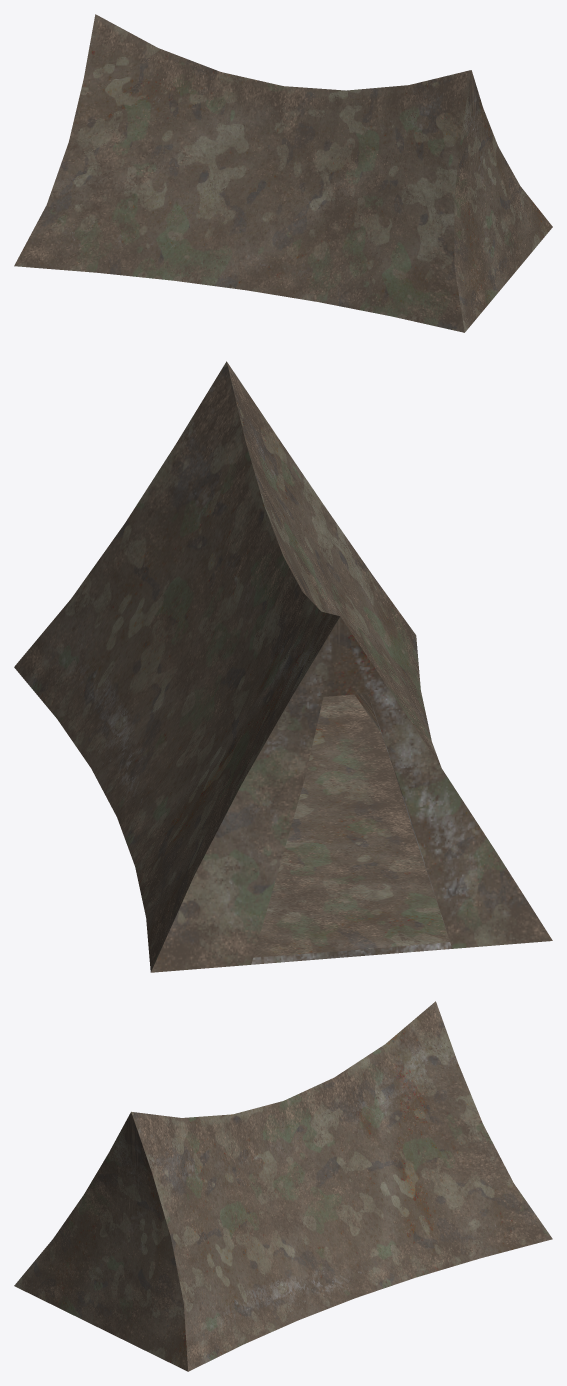
Rendered from TiendaCampanya.obj.
3 views of the same model, one above another, from view 1: azimuth 30°, elevation 25°; view 2: azimuth 150°, elevation 25°; view 3: azimuth 270°, elevation 25° (orthographic). The views are drawn at different scales.
Visible parts, largest first — view 1: Box146; view 2: Box146; view 3: Box146.
Part boxes in pixels (bbox=[...]): Box146: bbox=[14, 14, 552, 332]; Box146: bbox=[14, 361, 552, 972]; Box146: bbox=[14, 1001, 552, 1371].
Size of the model in its own units: 15.01 by 6.6 by 15.65.
1 material, 1 textured.
